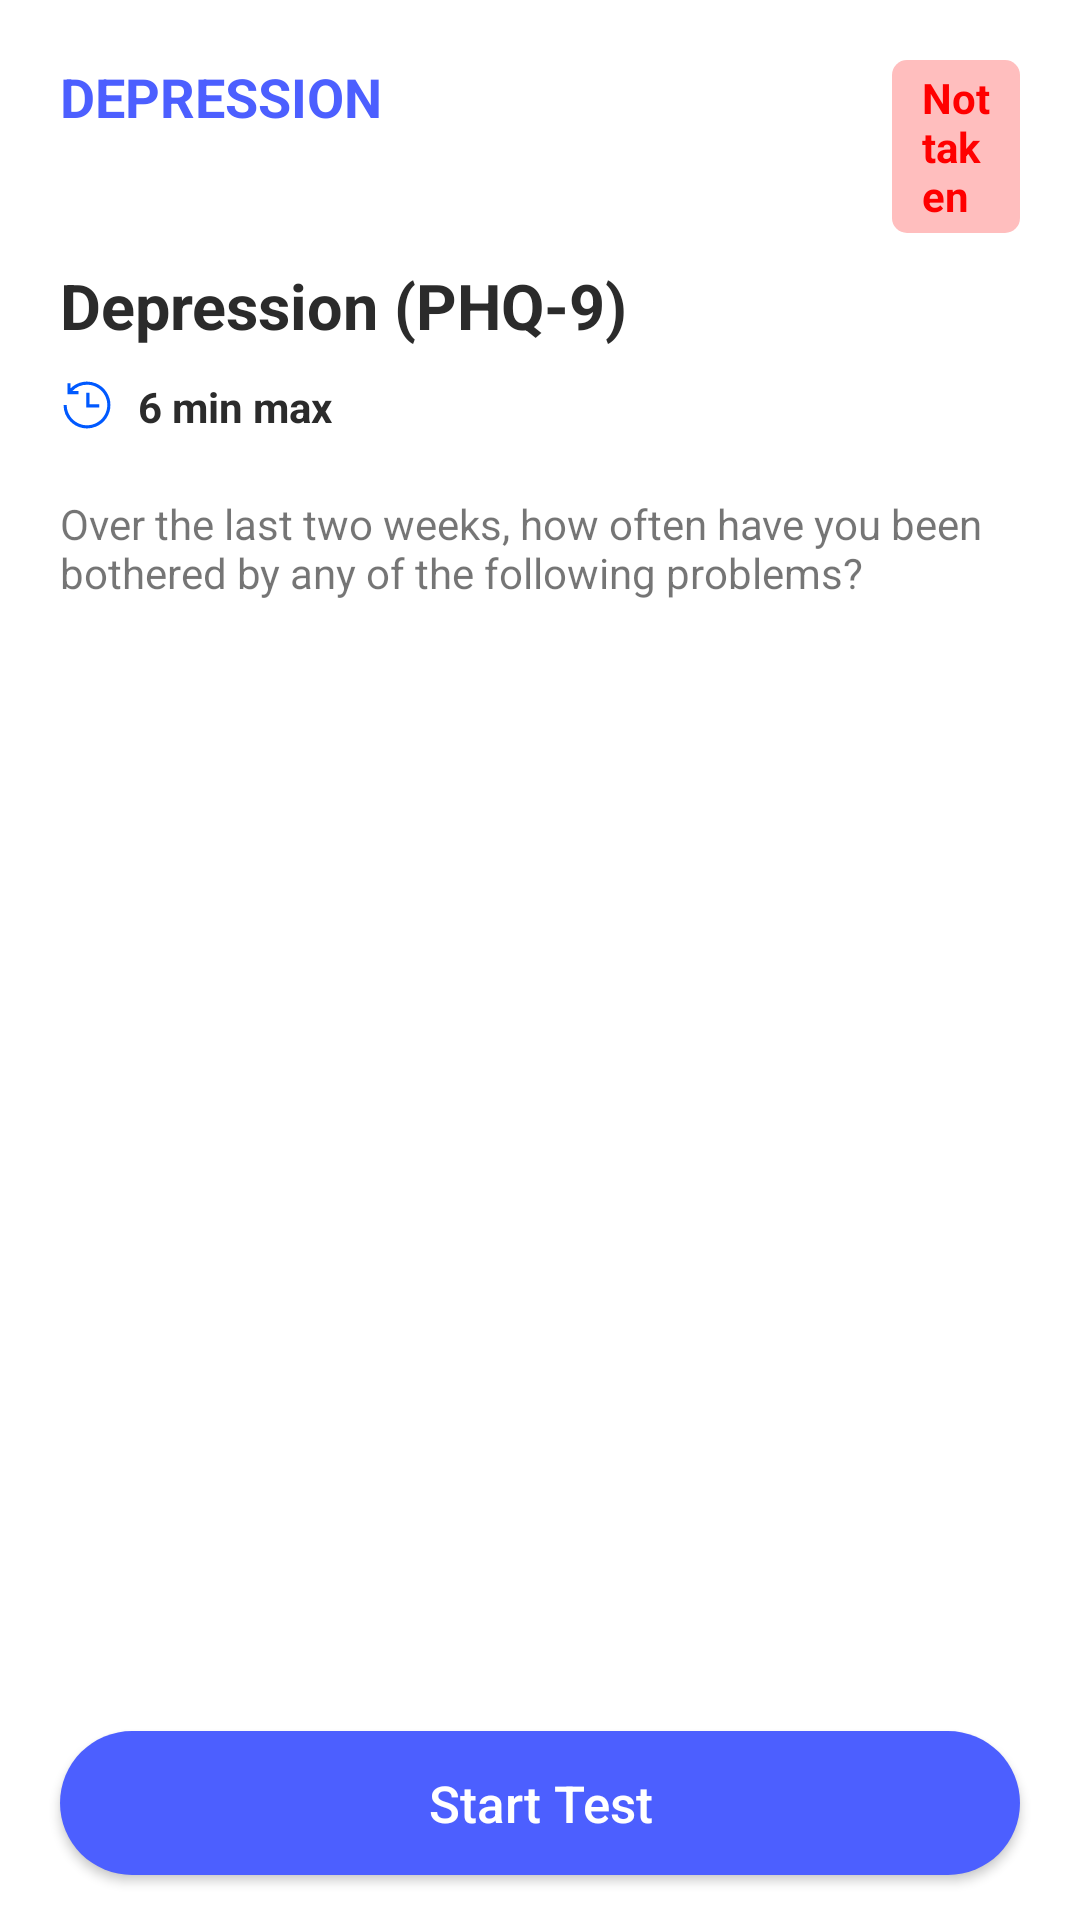

Point at icon controls on the screen. Image size 1080x1920, points as point (x, y).
clock: point (87, 405)
